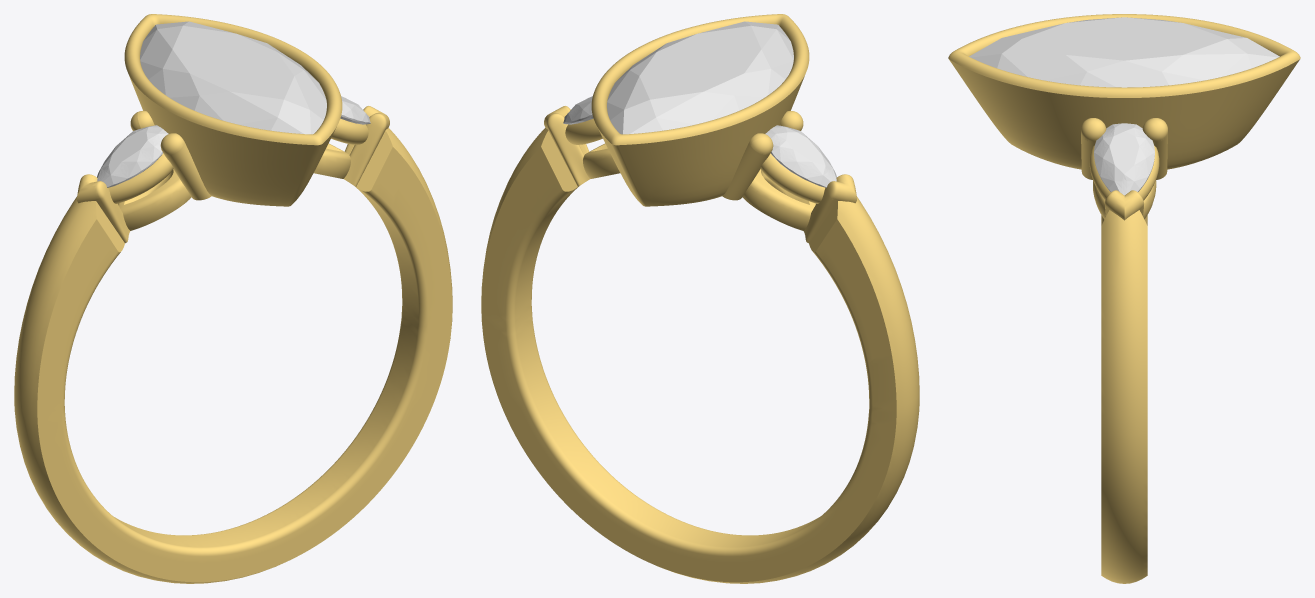
Rendered from JustinV2YGeng_blender.glb.
3 renders of one model, left to right at view 1: azimuth 30°, elevation 25°; view 2: azimuth 150°, elevation 25°; view 3: azimuth 270°, elevation 25°, orthographic.
Parts seen in each view (by area): view 1: Justin v2 YG for 3d model, Justin marquise dia for 3d model, Justin pear dia for 3d model.001; view 2: Justin v2 YG for 3d model, Justin marquise dia for 3d model, Justin pear dia for 3d model.001; view 3: Justin v2 YG for 3d model, Justin marquise dia for 3d model, Justin pear dia for 3d model.
Part boxes in pixels (box(x1,y1,x2,y2)): Justin v2 YG for 3d model: box(14, 14, 452, 583); Justin marquise dia for 3d model: box(140, 21, 326, 134); Justin pear dia for 3d model.001: box(97, 125, 168, 187); Justin v2 YG for 3d model: box(481, 14, 919, 583); Justin marquise dia for 3d model: box(607, 21, 793, 134); Justin pear dia for 3d model.001: box(765, 125, 836, 187); Justin v2 YG for 3d model: box(948, 14, 1300, 583); Justin marquise dia for 3d model: box(969, 17, 1279, 87); Justin pear dia for 3d model: box(1094, 123, 1154, 195).
Bounding box in the file's own units: 20.72 × 23.65 × 14.49.
